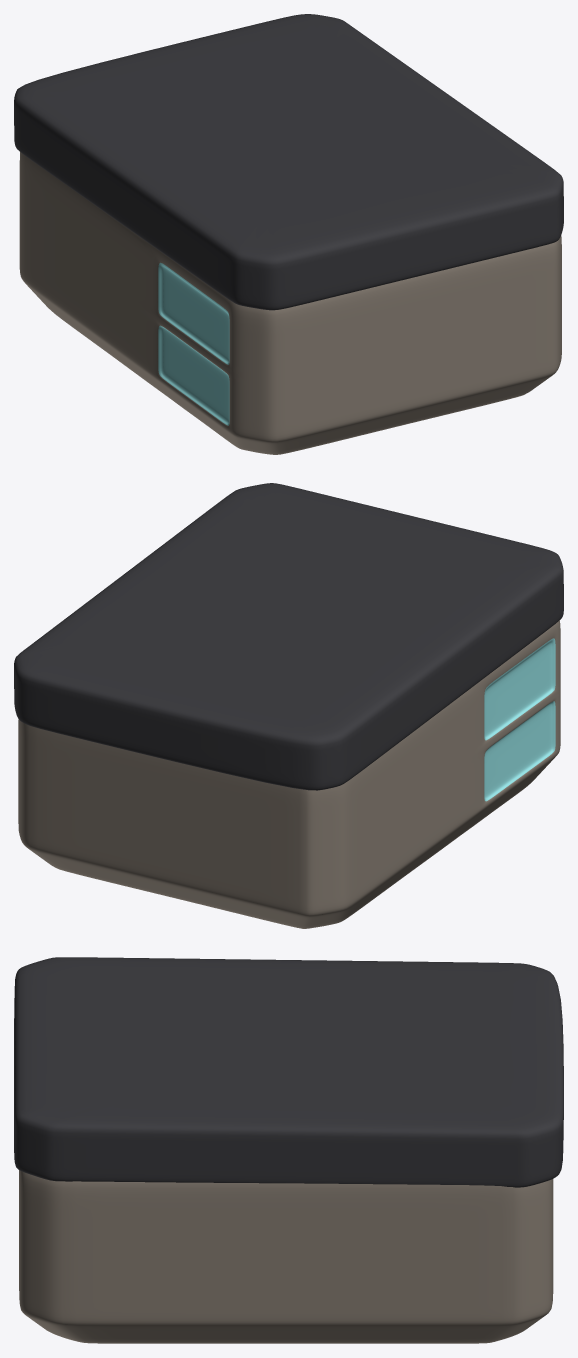
The model's file is oguemelkferm.fbx.
The picture shows the model from 3 angles, top to bottom: view 1: azimuth 30°, elevation 25°; view 2: azimuth 150°, elevation 25°; view 3: azimuth 270°, elevation 25°; orthographic projection. The views are drawn at different scales.
Visible parts, largest first — view 1: lid, fermented oguemelk container; view 2: lid, fermented oguemelk container; view 3: lid, fermented oguemelk container.
Boxes of the visible parts, x1,y1,x2,y2 form: lid: (14,14,563,310); fermented oguemelk container: (19,152,561,454); lid: (14,483,563,790); fermented oguemelk container: (18,620,560,928); lid: (14,957,563,1187); fermented oguemelk container: (19,1170,553,1343).
Bounding box in the file's own units: 60.58 × 38.29 × 81.65.
